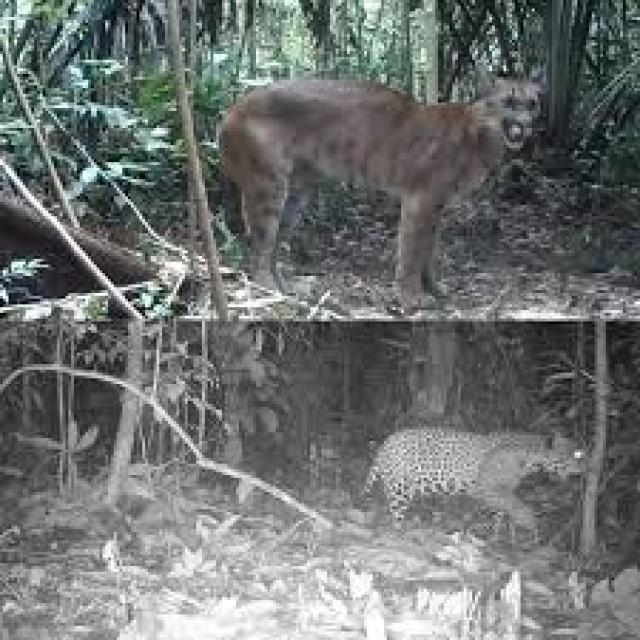Jaguar: (222, 71, 549, 304), (378, 421, 609, 555)
